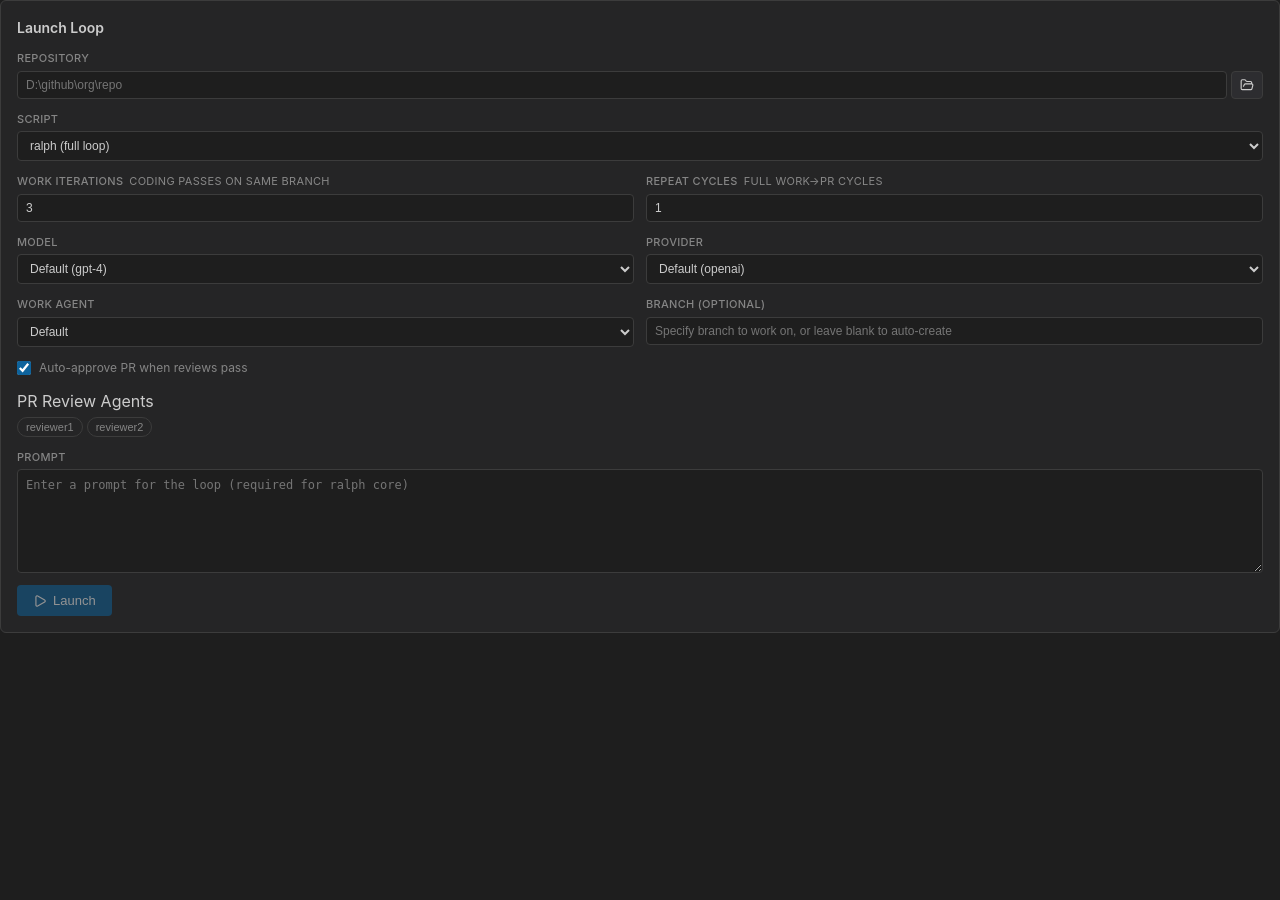
RalphLaunchForm › Form Submission › shows error when launch result has success=false
The width and height of the screenshot is (1280, 900).
In the field labelled "Repository": (622, 84) [17, 70, 1227, 98], type "/path/to/repo"
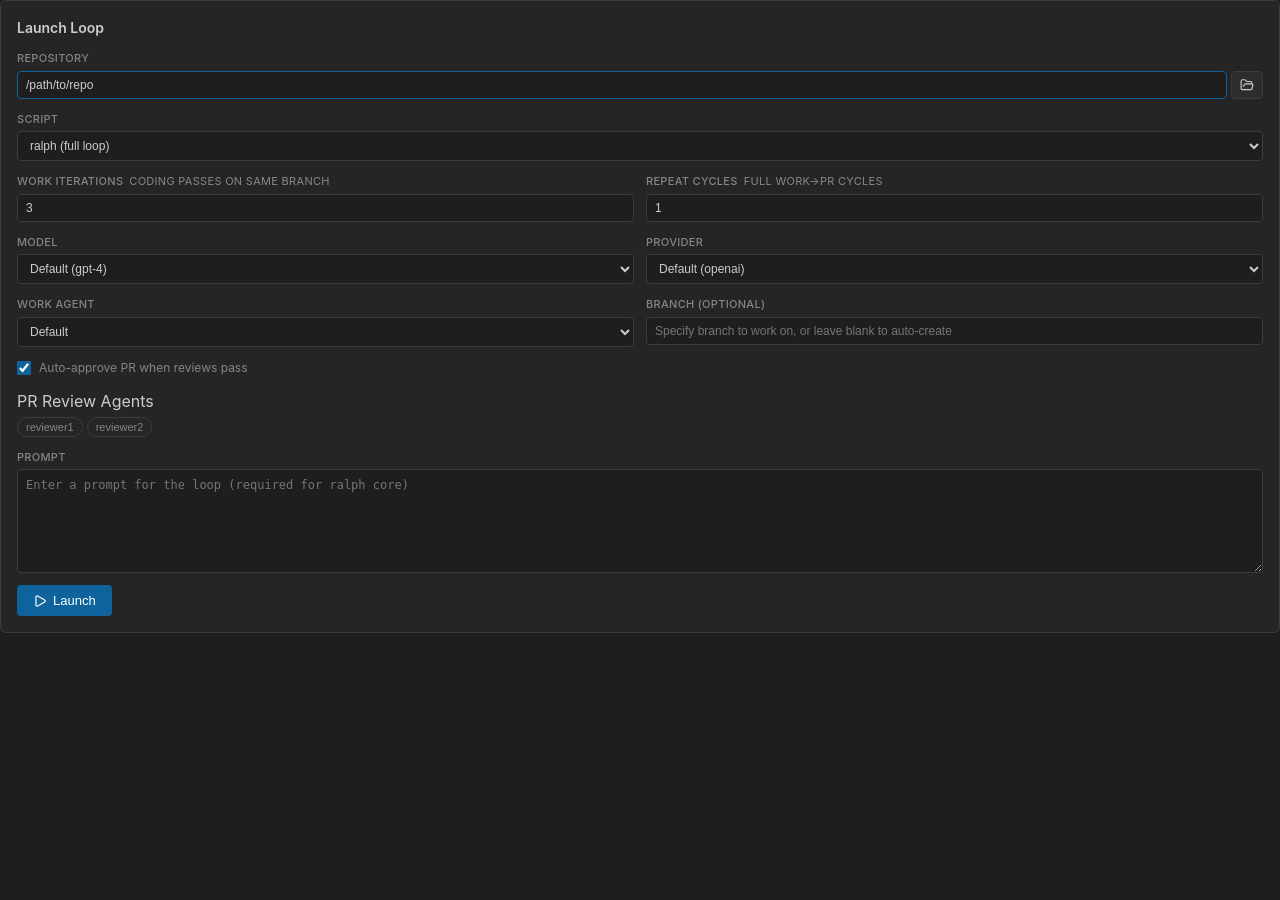
Click the button "Launch": (64, 600) [17, 585, 112, 616]
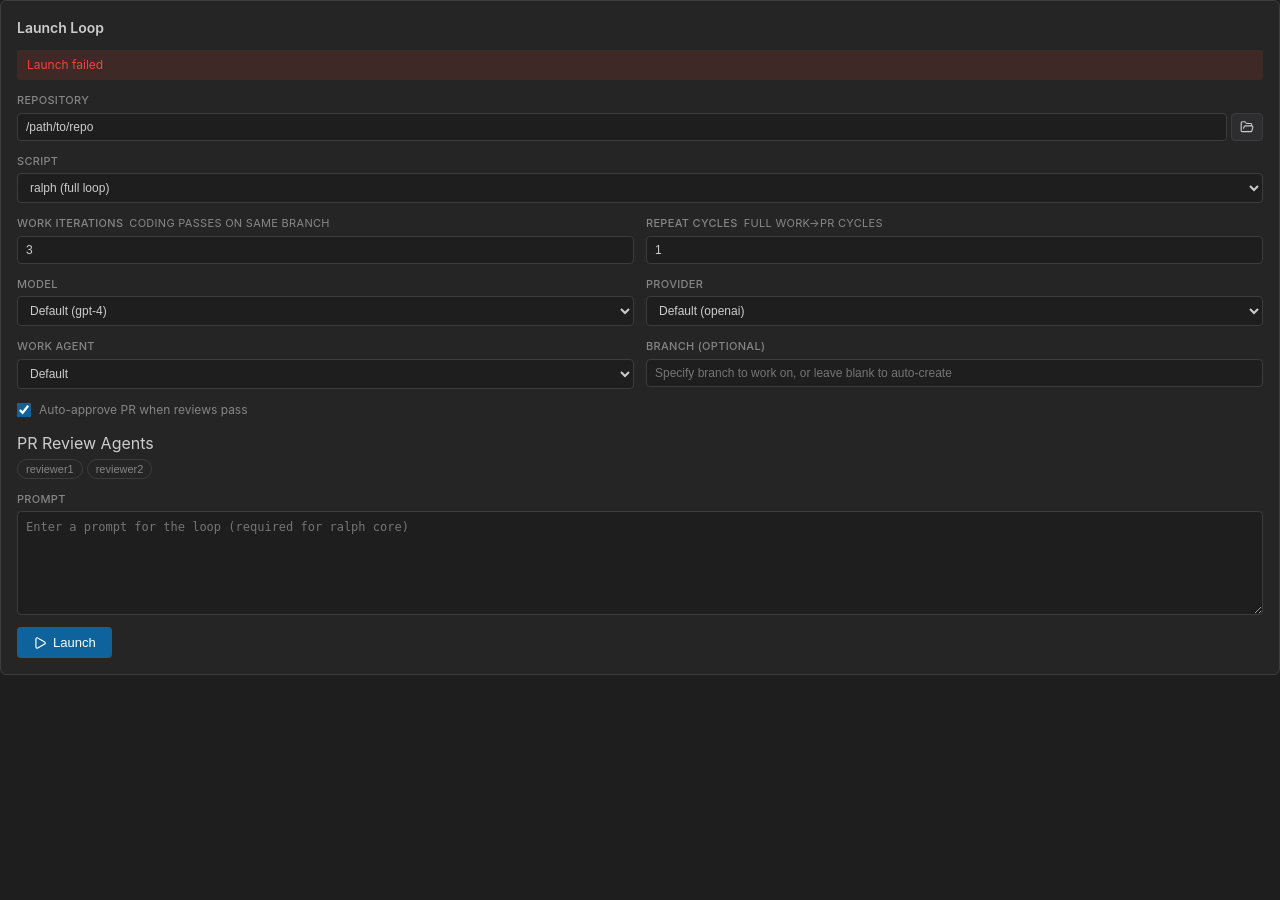
Expected: the text "Launch failed" is shown, [17, 50, 1263, 80]
